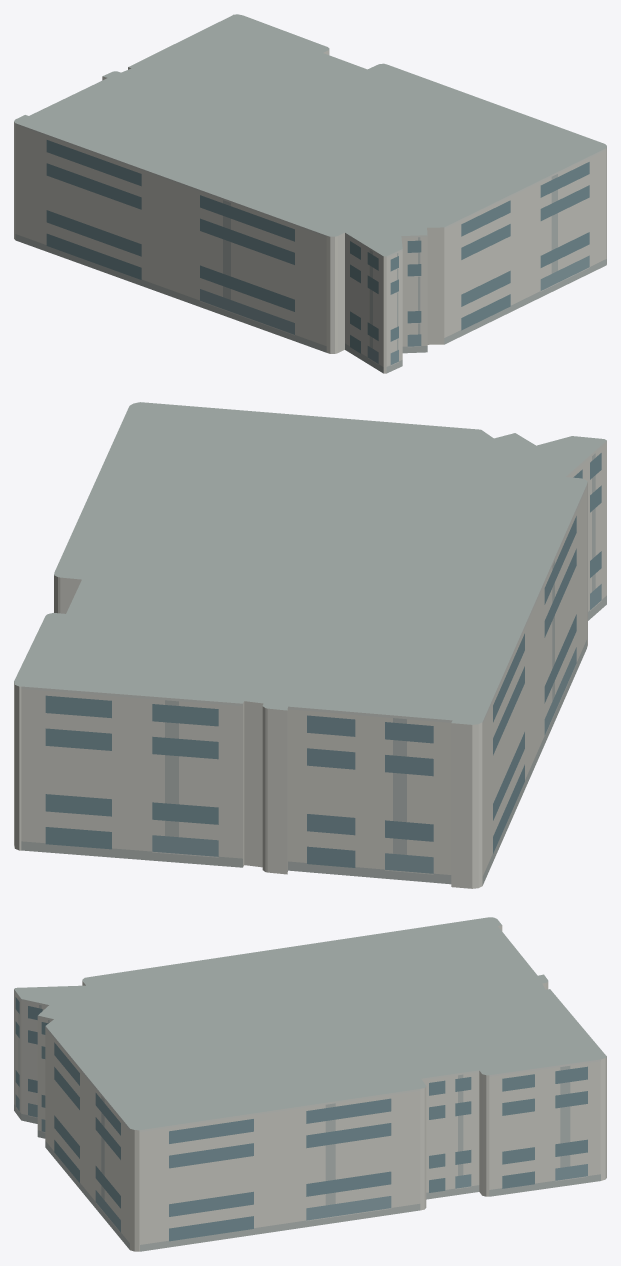
The model's file is survey-upis-32646732.glb.
3 views of the same model, one above another, from view 1: azimuth 30°, elevation 25°; view 2: azimuth 150°, elevation 25°; view 3: azimuth 270°, elevation 25° (orthographic). The views are drawn at different scales.
Parts seen in each view (by area): view 1: survey-upis-32646732.tmp; view 2: survey-upis-32646732.tmp; view 3: survey-upis-32646732.tmp.
Part boxes in pixels (box(x1,y1,x2,y2)): survey-upis-32646732.tmp: box(14, 14, 606, 373); survey-upis-32646732.tmp: box(14, 402, 606, 888); survey-upis-32646732.tmp: box(14, 917, 606, 1251).
Bounding box in the file's own units: 57.33 × 15.25 × 67.42.
